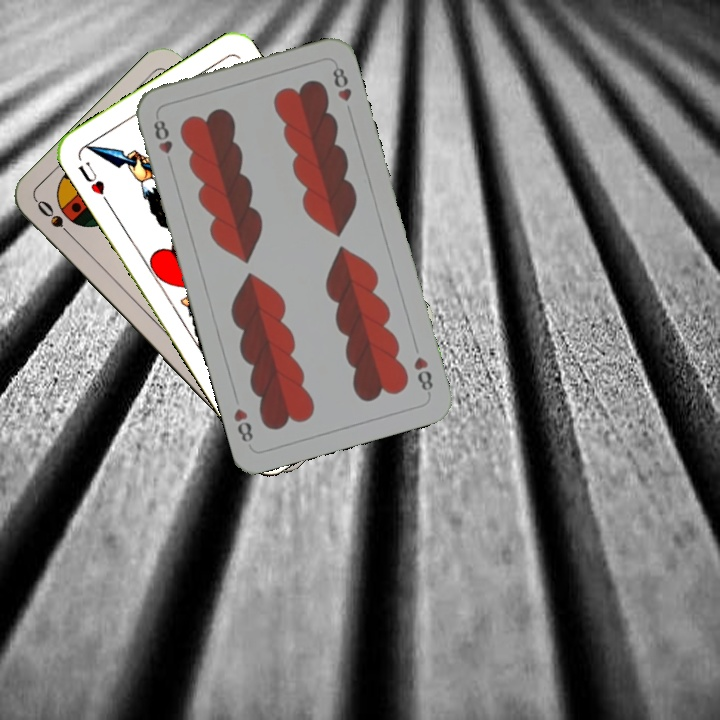H8: (149, 115, 176, 170), (410, 352, 436, 398)
HU: (73, 157, 112, 207)
SO: (32, 195, 79, 243)
